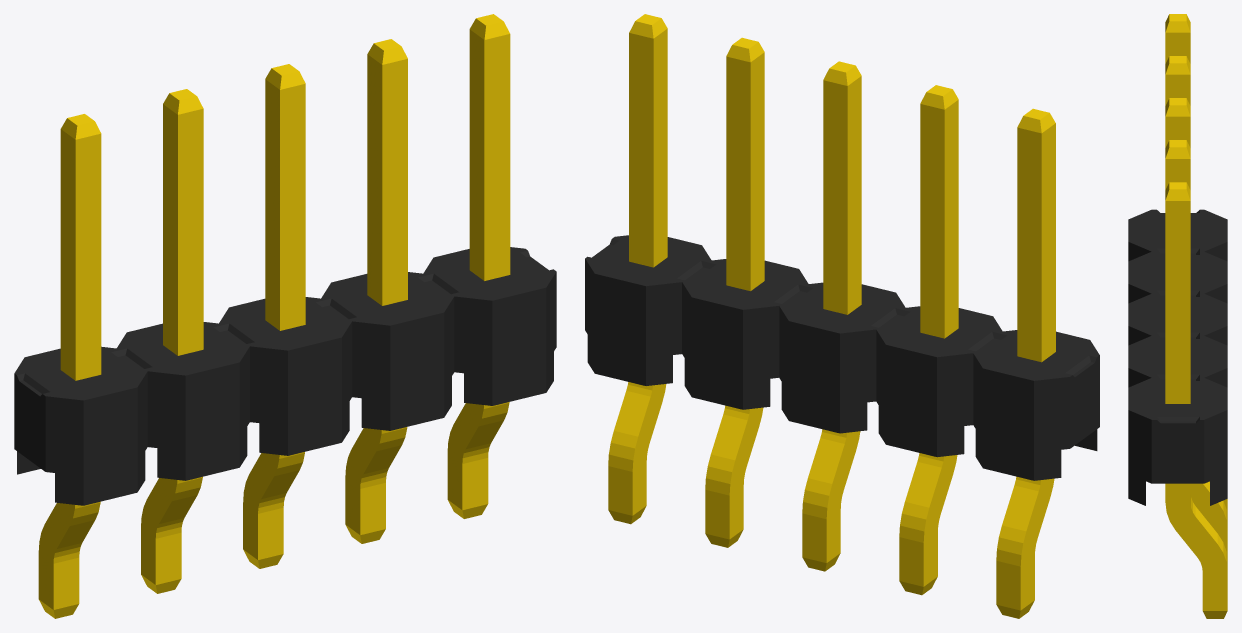
Rendered from DS1025 (PLS-05T CONNFLY).obj.
3 views of the same model, side by side, from view 1: azimuth 30°, elevation 25°; view 2: azimuth 150°, elevation 25°; view 3: azimuth 270°, elevation 25° (orthographic). The views are drawn at different scales.
Parts seen in each view (by area): view 1: DS1025_(PLS-05T_CONNFLY); view 2: DS1025_(PLS-05T_CONNFLY); view 3: DS1025_(PLS-05T_CONNFLY).
Part boxes in pixels (x1,y1,x2,y2): DS1025_(PLS-05T_CONNFLY): [14, 14, 556, 618]; DS1025_(PLS-05T_CONNFLY): [585, 14, 1099, 618]; DS1025_(PLS-05T_CONNFLY): [1128, 14, 1227, 618].
Size of the model in its own units: 0.0171 by 0.0163 by 0.00342.
